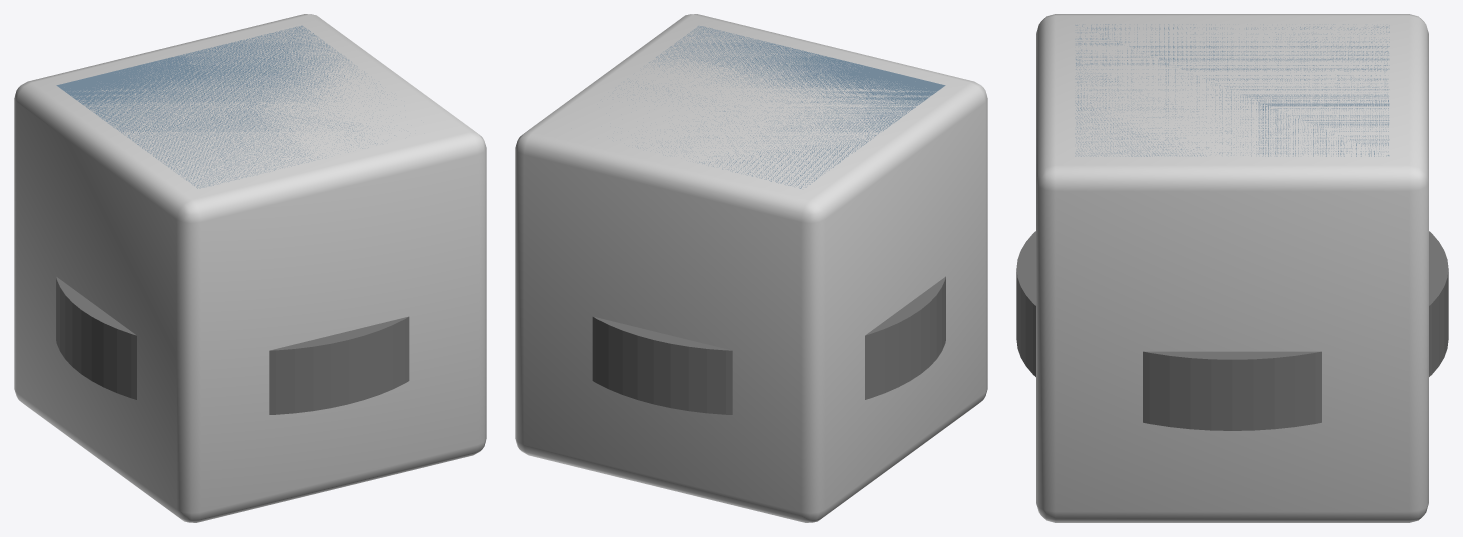
The picture shows the model from 3 angles, left to right: view 1: azimuth 30°, elevation 25°; view 2: azimuth 150°, elevation 25°; view 3: azimuth 270°, elevation 25°; orthographic projection. The views are drawn at different scales.
Visible parts, largest first — view 1: Body, Screen, Base; view 2: Body, Base, Screen; view 3: Body, Base, Screen.
Part boxes in pixels (<box>): Body: <box>14,14,486,522</box>; Screen: <box>56,25,394,188</box>; Base: <box>56,276,409,414</box>; Body: <box>515,14,987,522</box>; Base: <box>592,276,945,414</box>; Screen: <box>624,26,945,188</box>; Body: <box>1036,14,1428,522</box>; Base: <box>1016,231,1448,430</box>; Screen: <box>1075,24,1389,156</box>.
Size of the model in its own units: 0.11 by 0.1 by 0.11.
